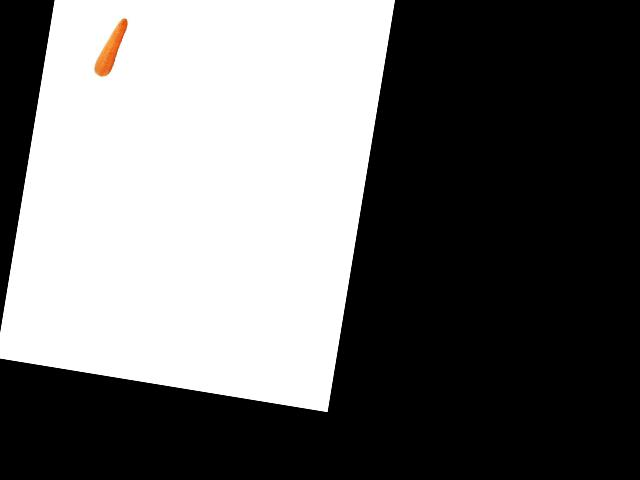carrot: (90, 11, 128, 80)
